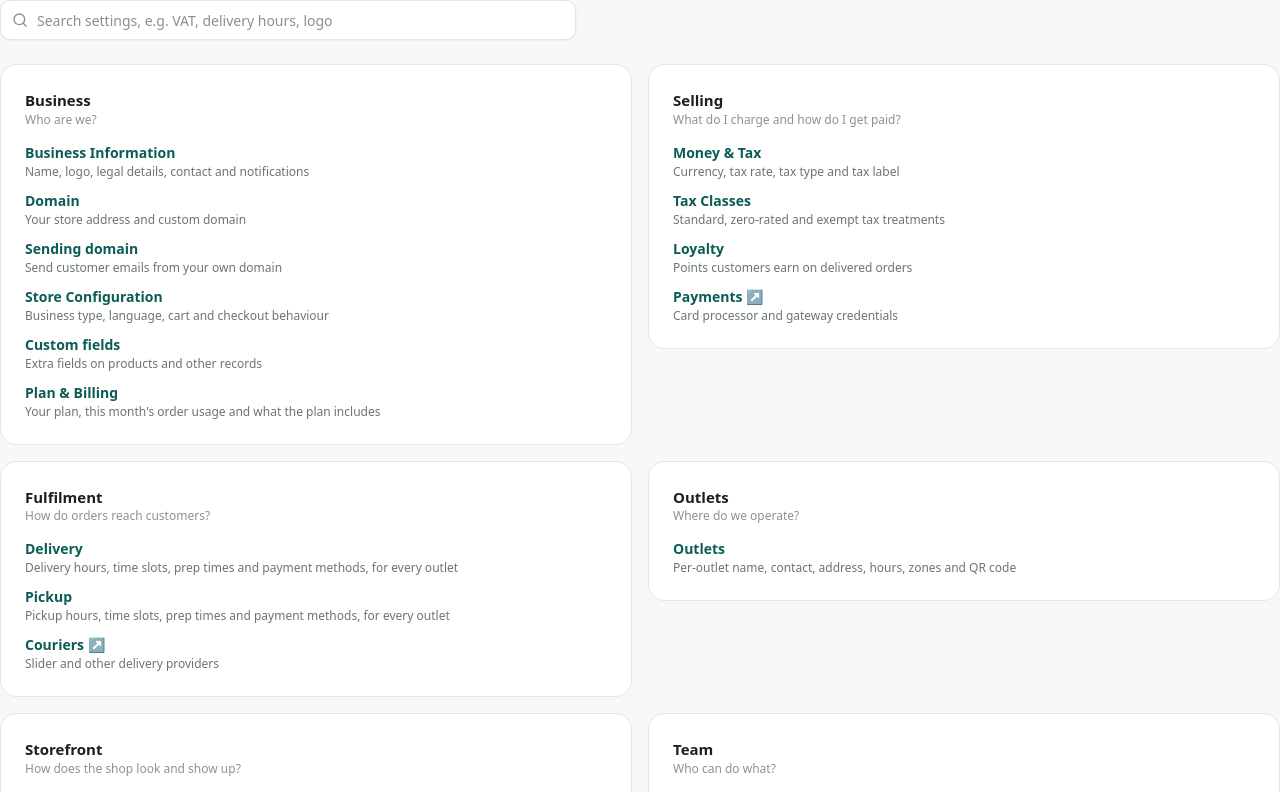
it: Settings landing page › lists every group, and searching replaces the groups with matching settings
Expected: the heading "Business" is shown, [25,90,91,110]
Expected: the heading "Selling" is shown, [673,90,723,110]
Type "vat" into the search field labelled "Search settings". click: (288, 20)
box: [0,0,576,40]
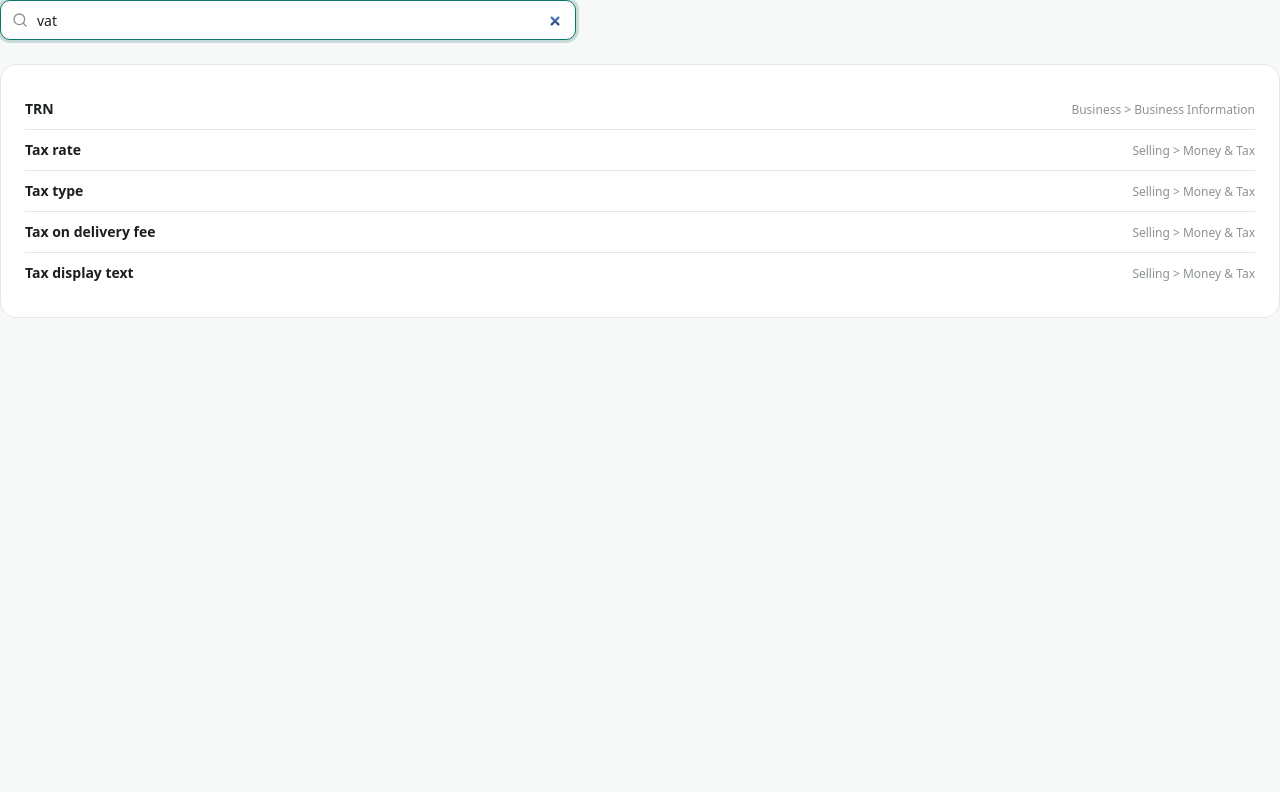
Result: the list named "Search results" shows "Tax rate" at [25,130,1255,170]
Result: the heading "Fulfilment" is gone
